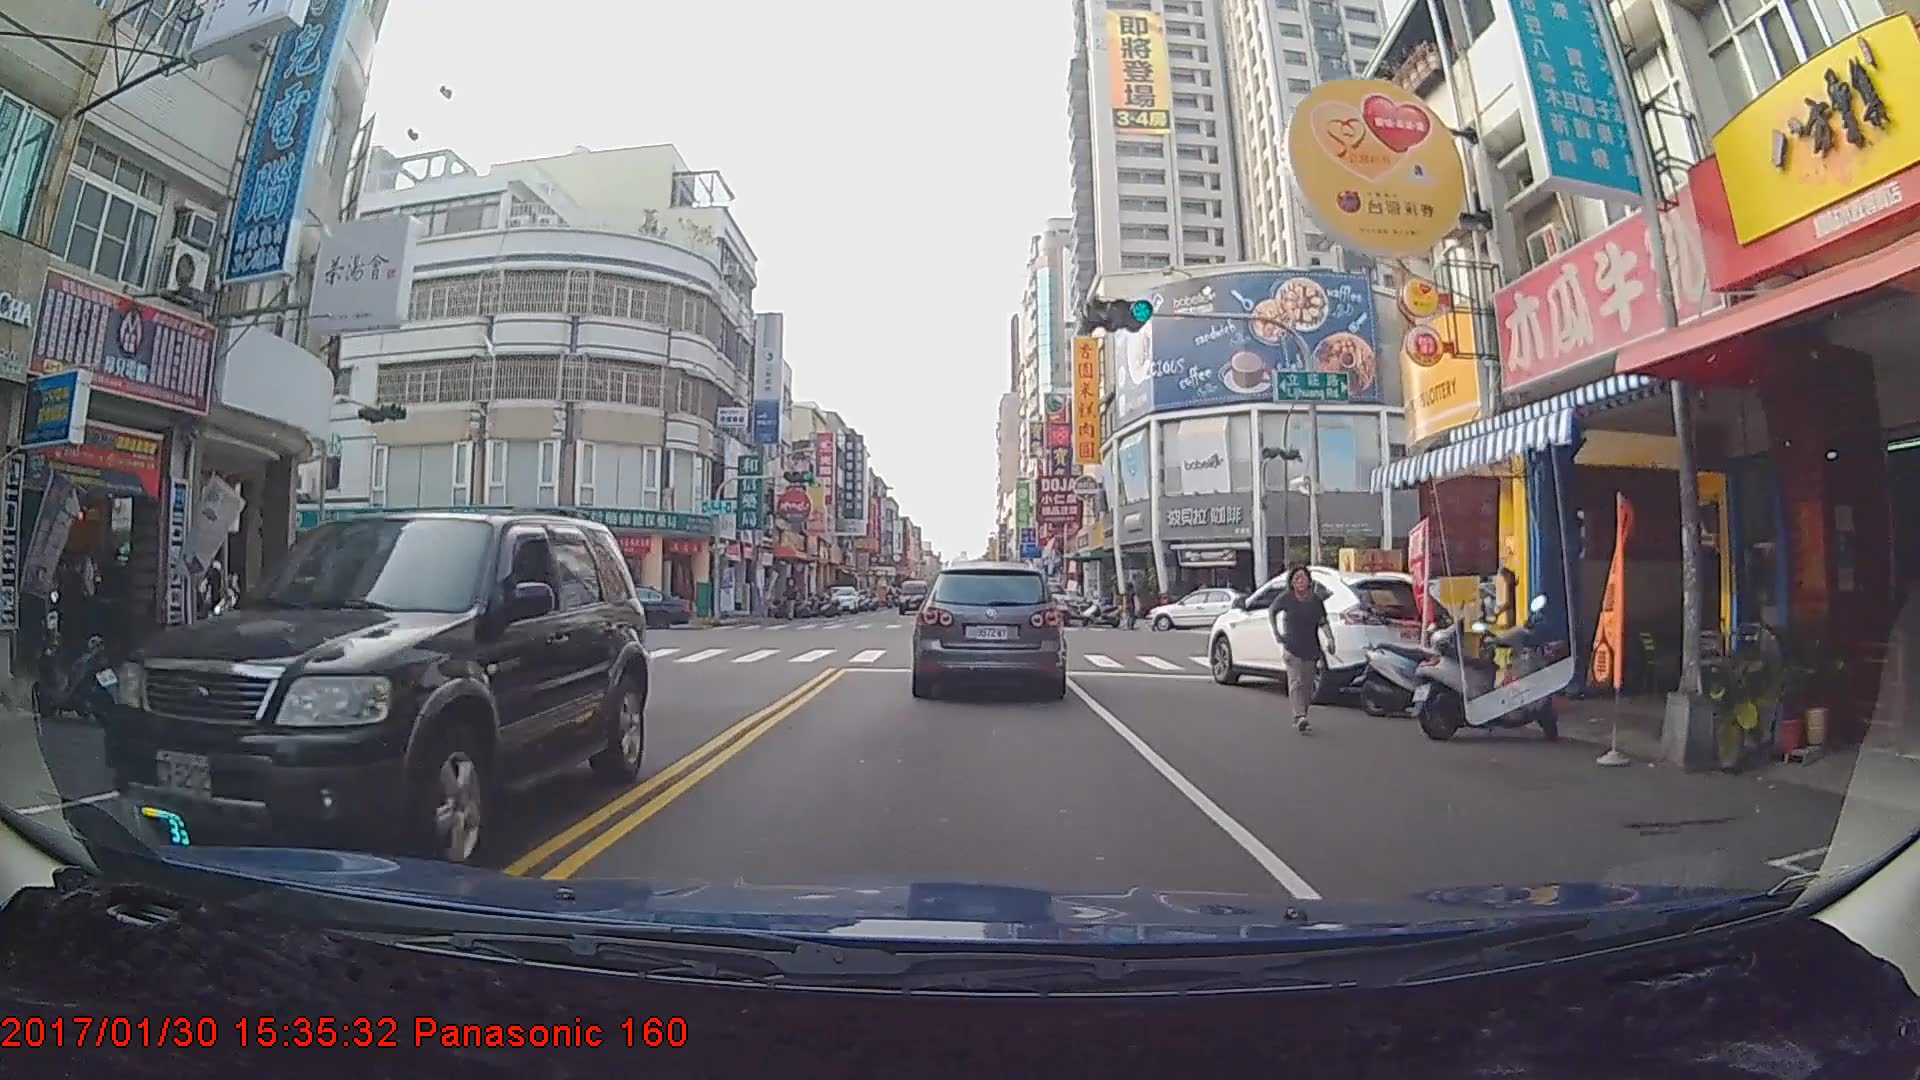pedestrian: (1274, 561, 1342, 738)
vehicle: (102, 507, 651, 878), (1206, 560, 1458, 700), (914, 560, 1063, 698), (552, 584, 687, 633), (1142, 584, 1268, 628), (895, 580, 930, 615), (821, 584, 861, 612)
